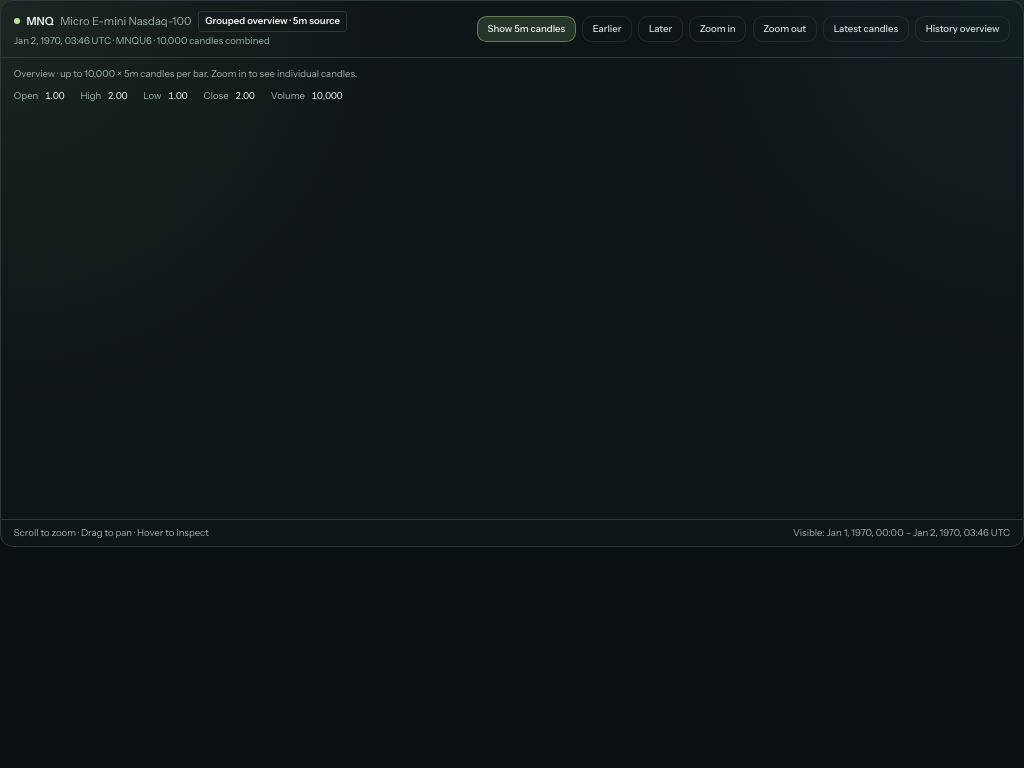
Test: loads individual candles on zoom and does not refetch from its own viewport restoration
Step 1. Click the button "Zoom in" → (718,29), box x1=689 y1=16 x2=746 y2=42
Wait 1000 ms
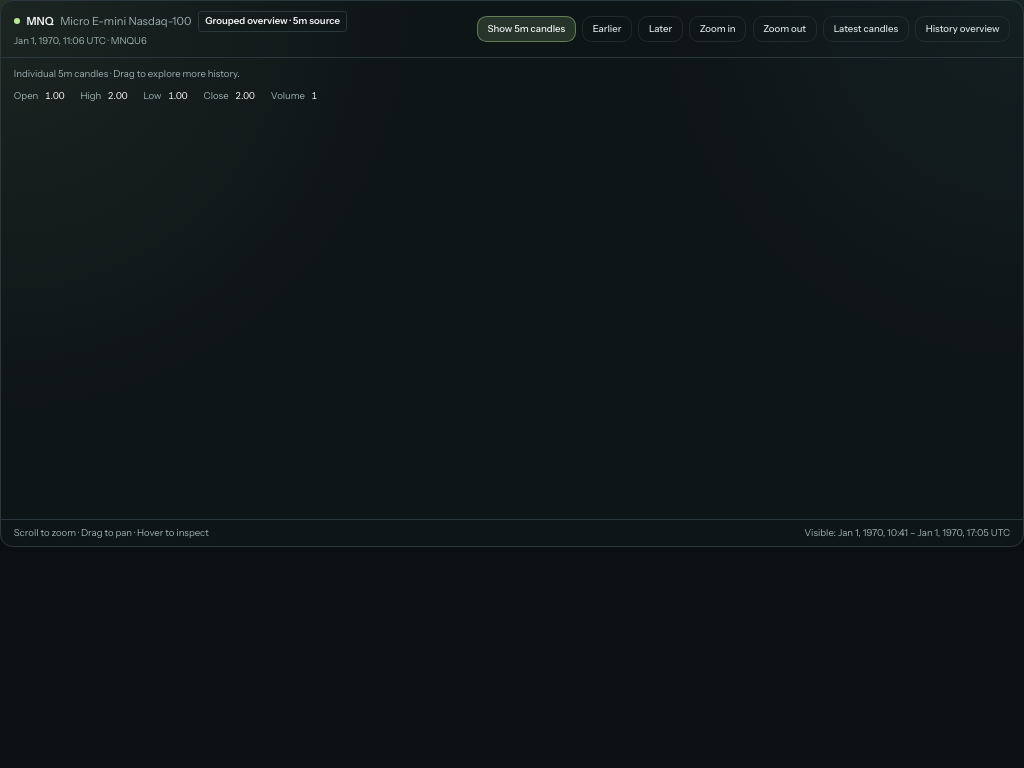
Result: the text "Individual 5m candles · Drag to explore more history." is shown at x1=14 y1=68 x2=240 y2=79
